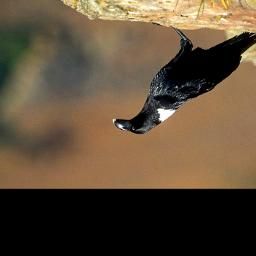Crow: (111, 22, 256, 136)
